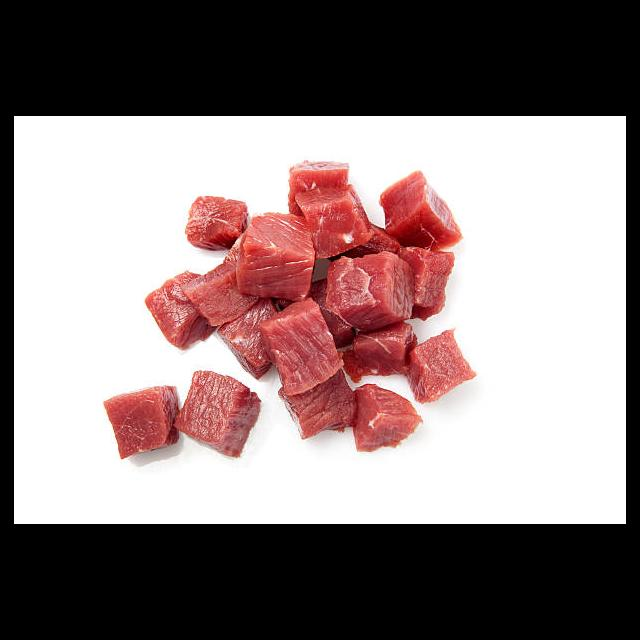beef: (102, 159, 475, 458)
